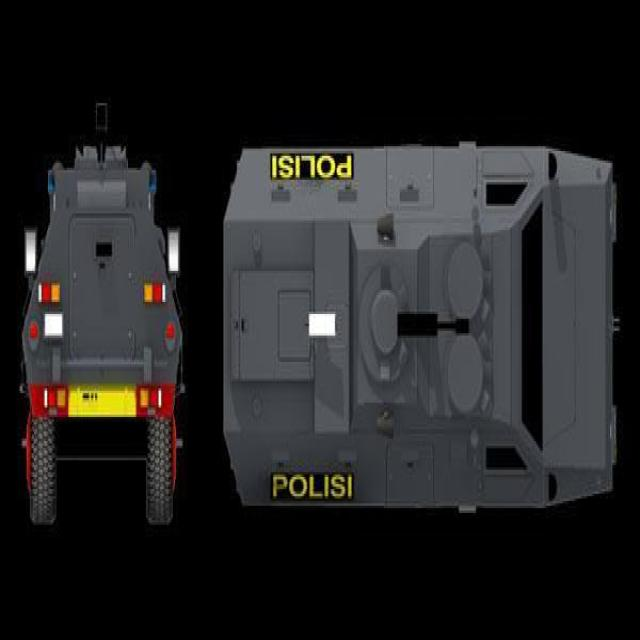Tanks: (224, 137, 617, 532), (15, 108, 180, 513)
